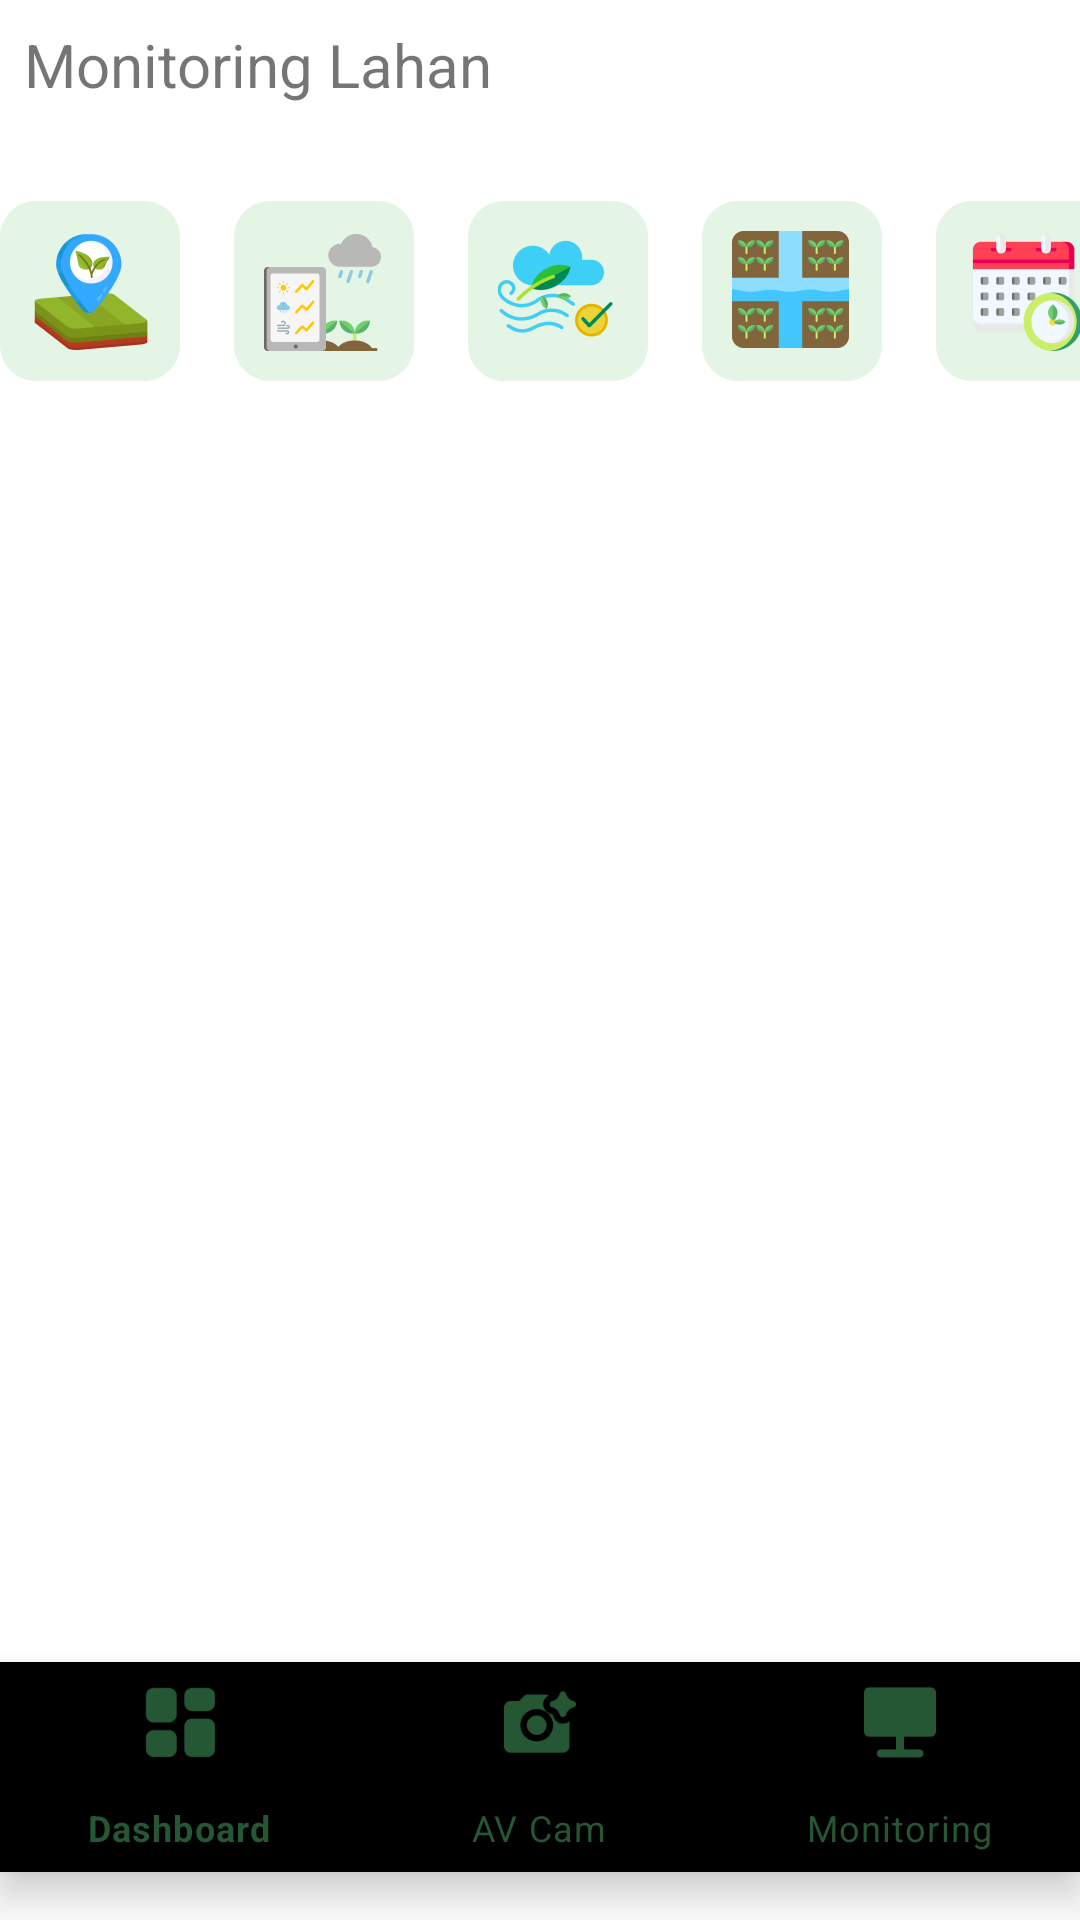

Screen size 1080px x 1920px. Icon name, then its center in pixels as point (x, y):
Lahan Saya: point (90, 291)
Pemantauan Cuaca: point (324, 291)
Pemantauan Udara: point (558, 291)
Penyiraman Otomatis: point (792, 291)
